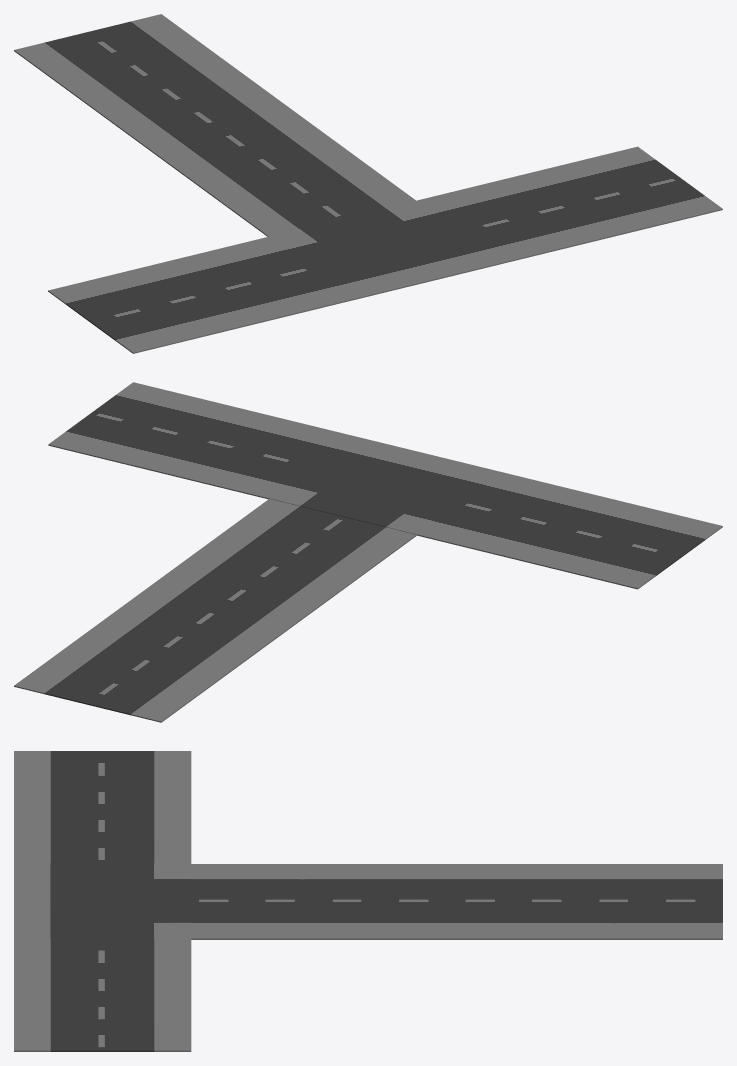
Rendered from Road_T.fbx.
The picture shows the model from 3 angles, top to bottom: view 1: azimuth 30°, elevation 25°; view 2: azimuth 150°, elevation 25°; view 3: azimuth 270°, elevation 25°; orthographic projection. The views are drawn at different scales.
Visible parts, largest first — view 1: pPlane51; view 2: pPlane51; view 3: pPlane51.
Boxes of the visible parts, x1,y1,x2,y2 form: pPlane51: (14,14,722,353); pPlane51: (14,382,722,722); pPlane51: (14,751,722,1051).
Bounding box in the file's own units: 8 × 0.02 × 8.
